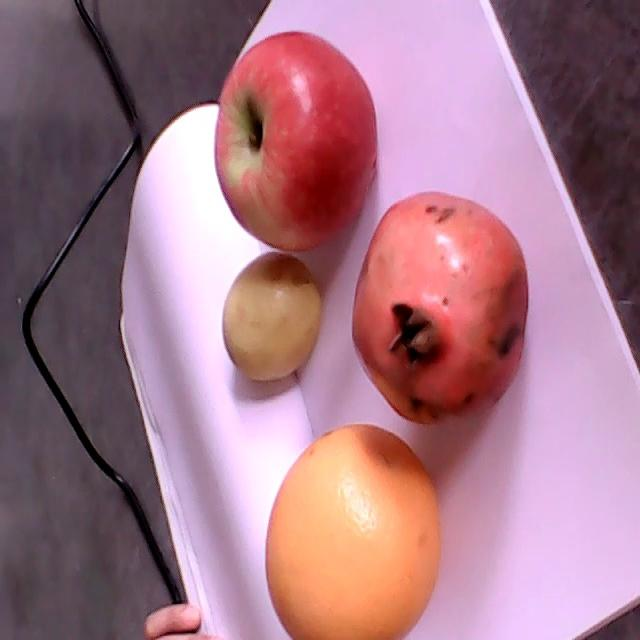apple: (214, 31, 377, 250)
orange: (265, 424, 439, 638), (221, 250, 325, 378)
pomegranate: (352, 190, 525, 426)
